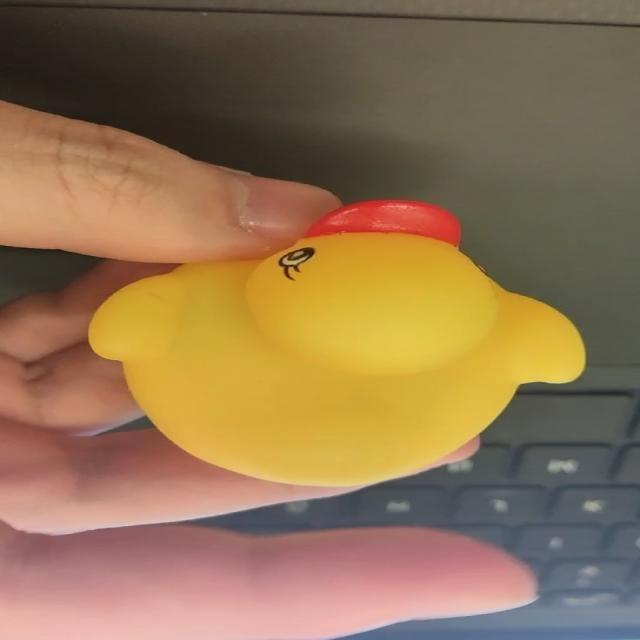rubber-duck: (88, 200, 583, 484)
